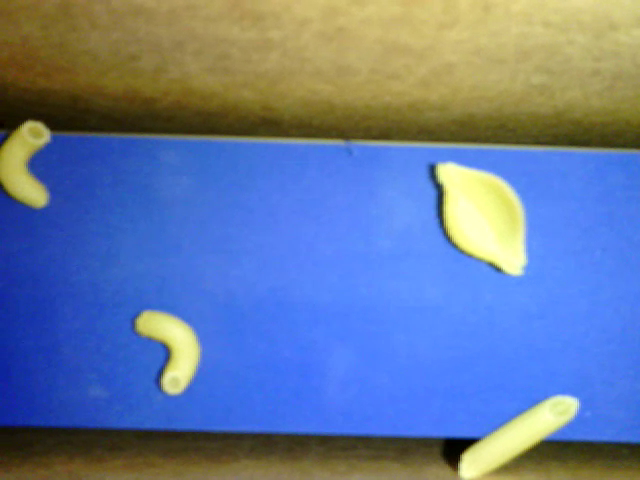elbow: (133, 307, 200, 393), (1, 120, 51, 208)
penne: (458, 394, 580, 479)
shell: (434, 161, 527, 275)
